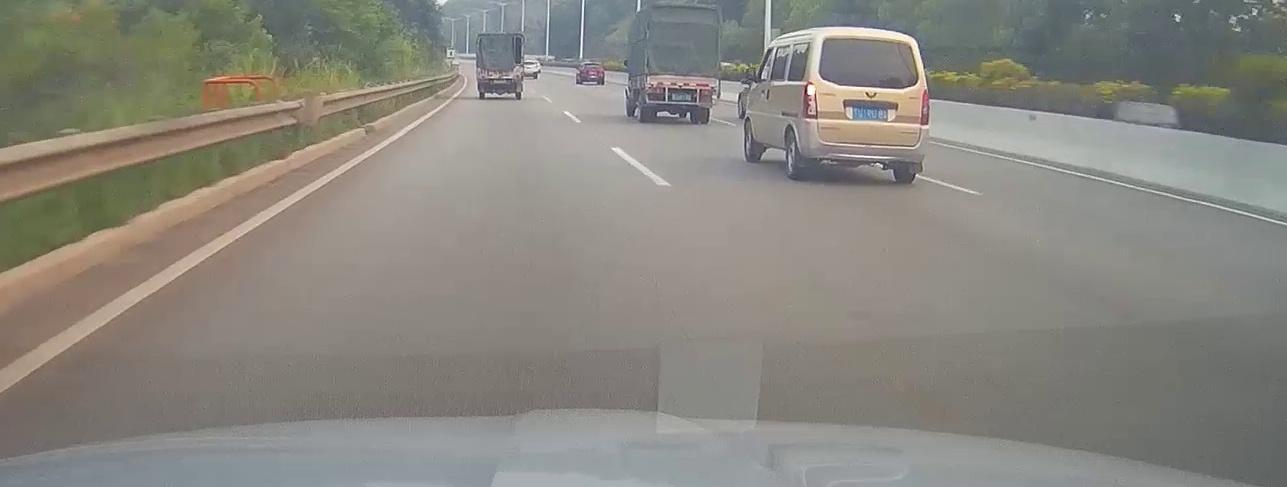L_light: (802, 82, 818, 120), (648, 87, 663, 93)
R_light: (920, 89, 930, 125), (700, 89, 714, 96)
T_light: (861, 38, 879, 43), (676, 82, 684, 86)
day-left: (798, 26, 932, 184)
day-no: (644, 2, 721, 125)
